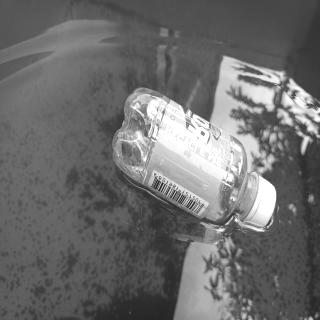bottle: (111, 86, 278, 230)
